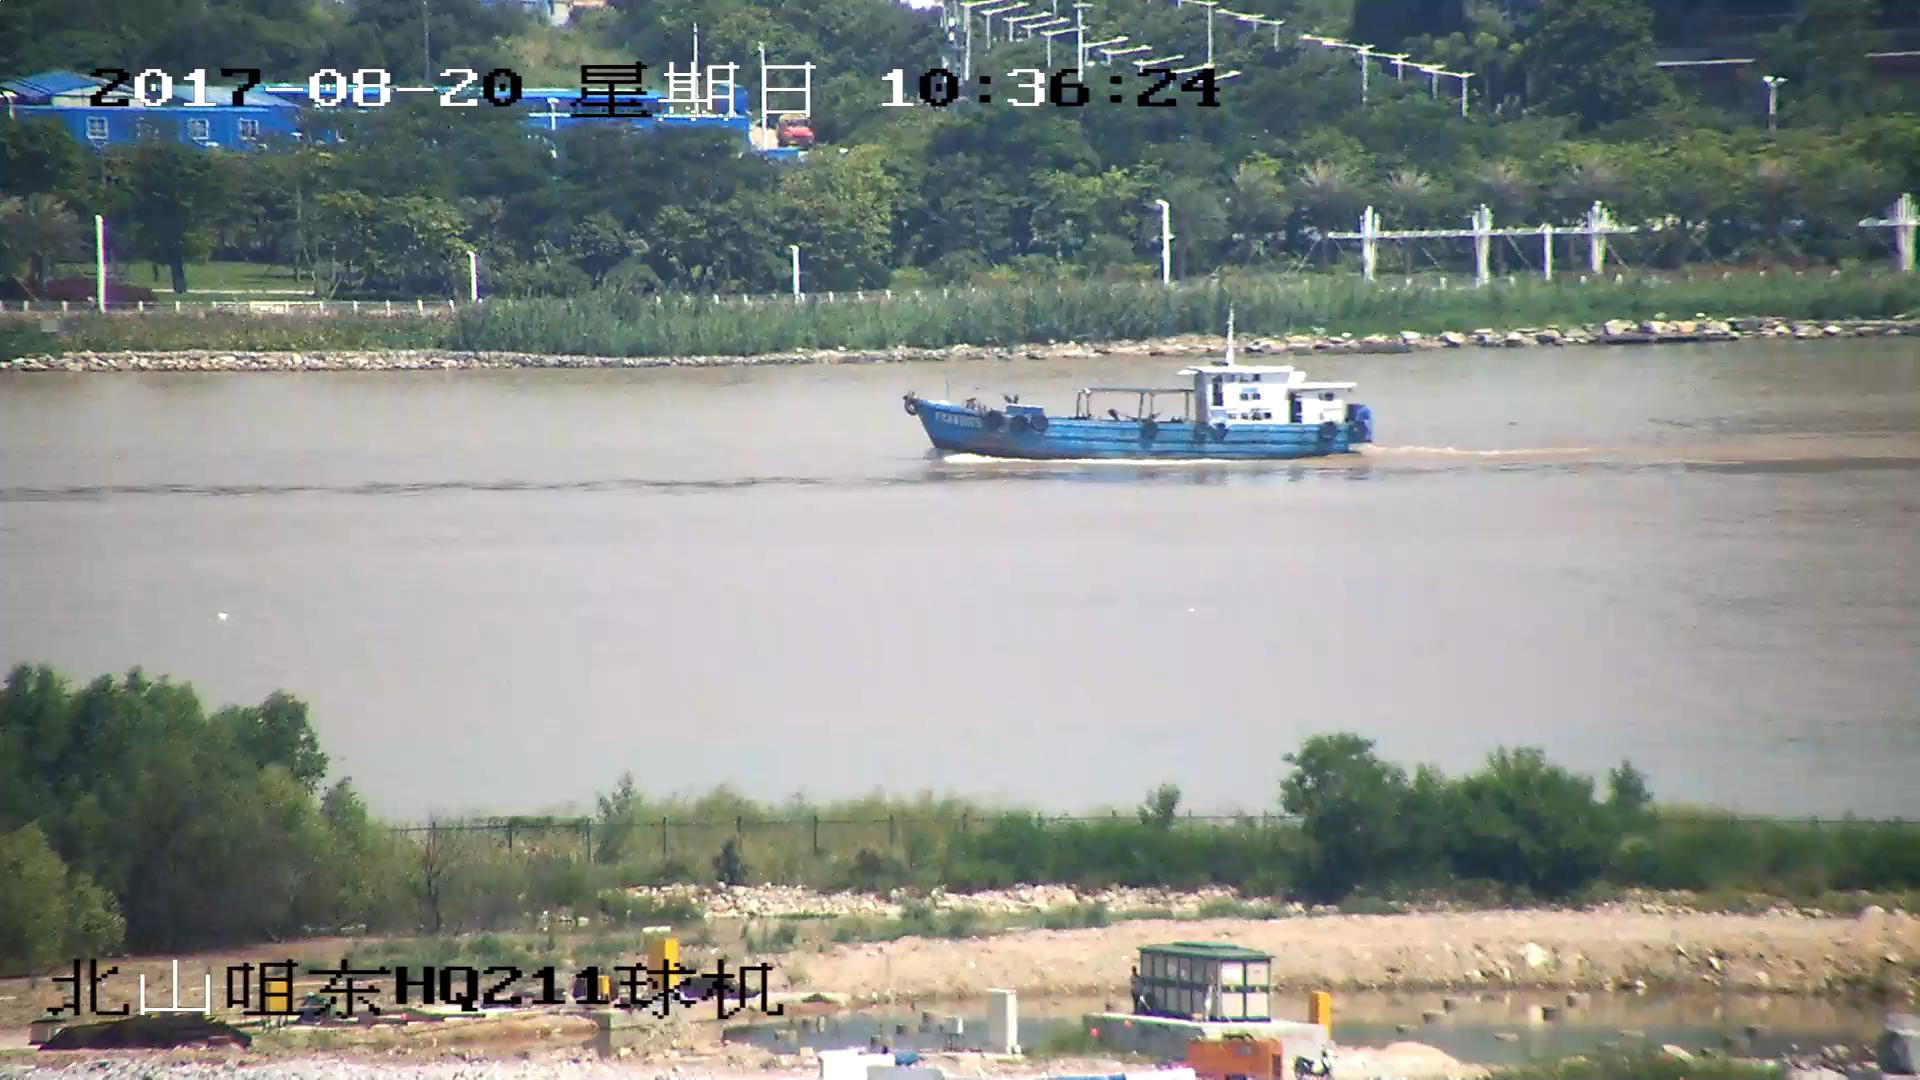fishing boat: (905, 304, 1372, 462)
